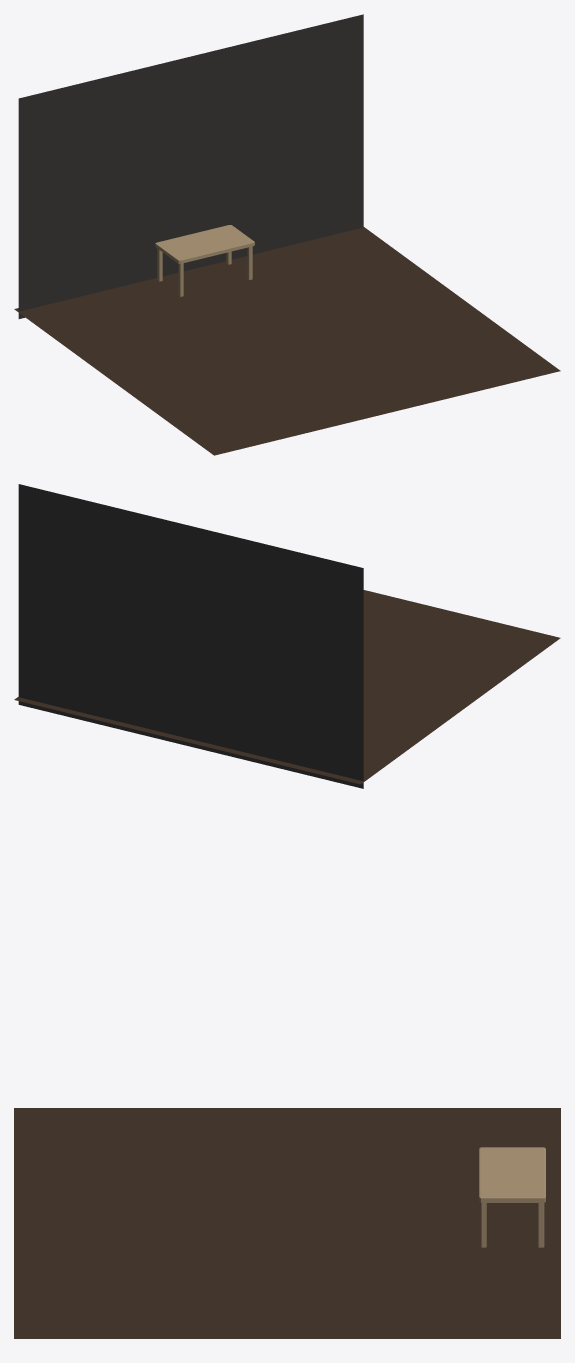
File: EscritorioMientras.fbx
3 views of the same model, one above another, from view 1: azimuth 30°, elevation 25°; view 2: azimuth 150°, elevation 25°; view 3: azimuth 270°, elevation 25° (orthographic). The views are drawn at different scales.
Parts seen in each view (by area): view 1: Pared, Piso, Mesa; view 2: Pared, Piso; view 3: Piso, Mesa.
Part boxes in pixels (x1=…): Pared: x1=18, y1=14, x2=363, y2=318; Piso: x1=14, y1=227, x2=560, y2=455; Mesa: x1=155, y1=225, x2=254, y2=296; Pared: x1=18, y1=484, x2=363, y2=788; Piso: x1=14, y1=590, x2=560, y2=784; Piso: x1=14, y1=1108, x2=560, y2=1338; Mesa: x1=479, y1=1147, x2=545, y2=1247.
Size of the model in its own units: 5402 by 3287 by 5402.
